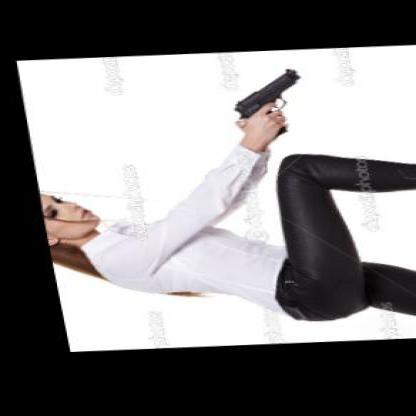pistol: (214, 67, 297, 136)
